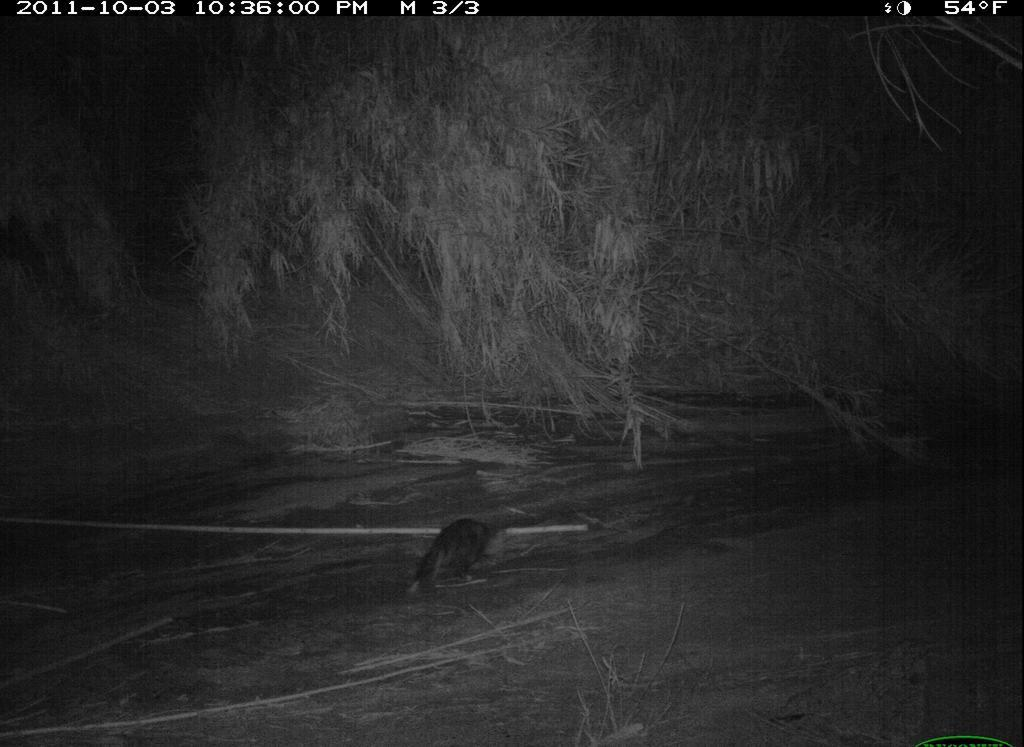opossum: (395, 505, 511, 597)
